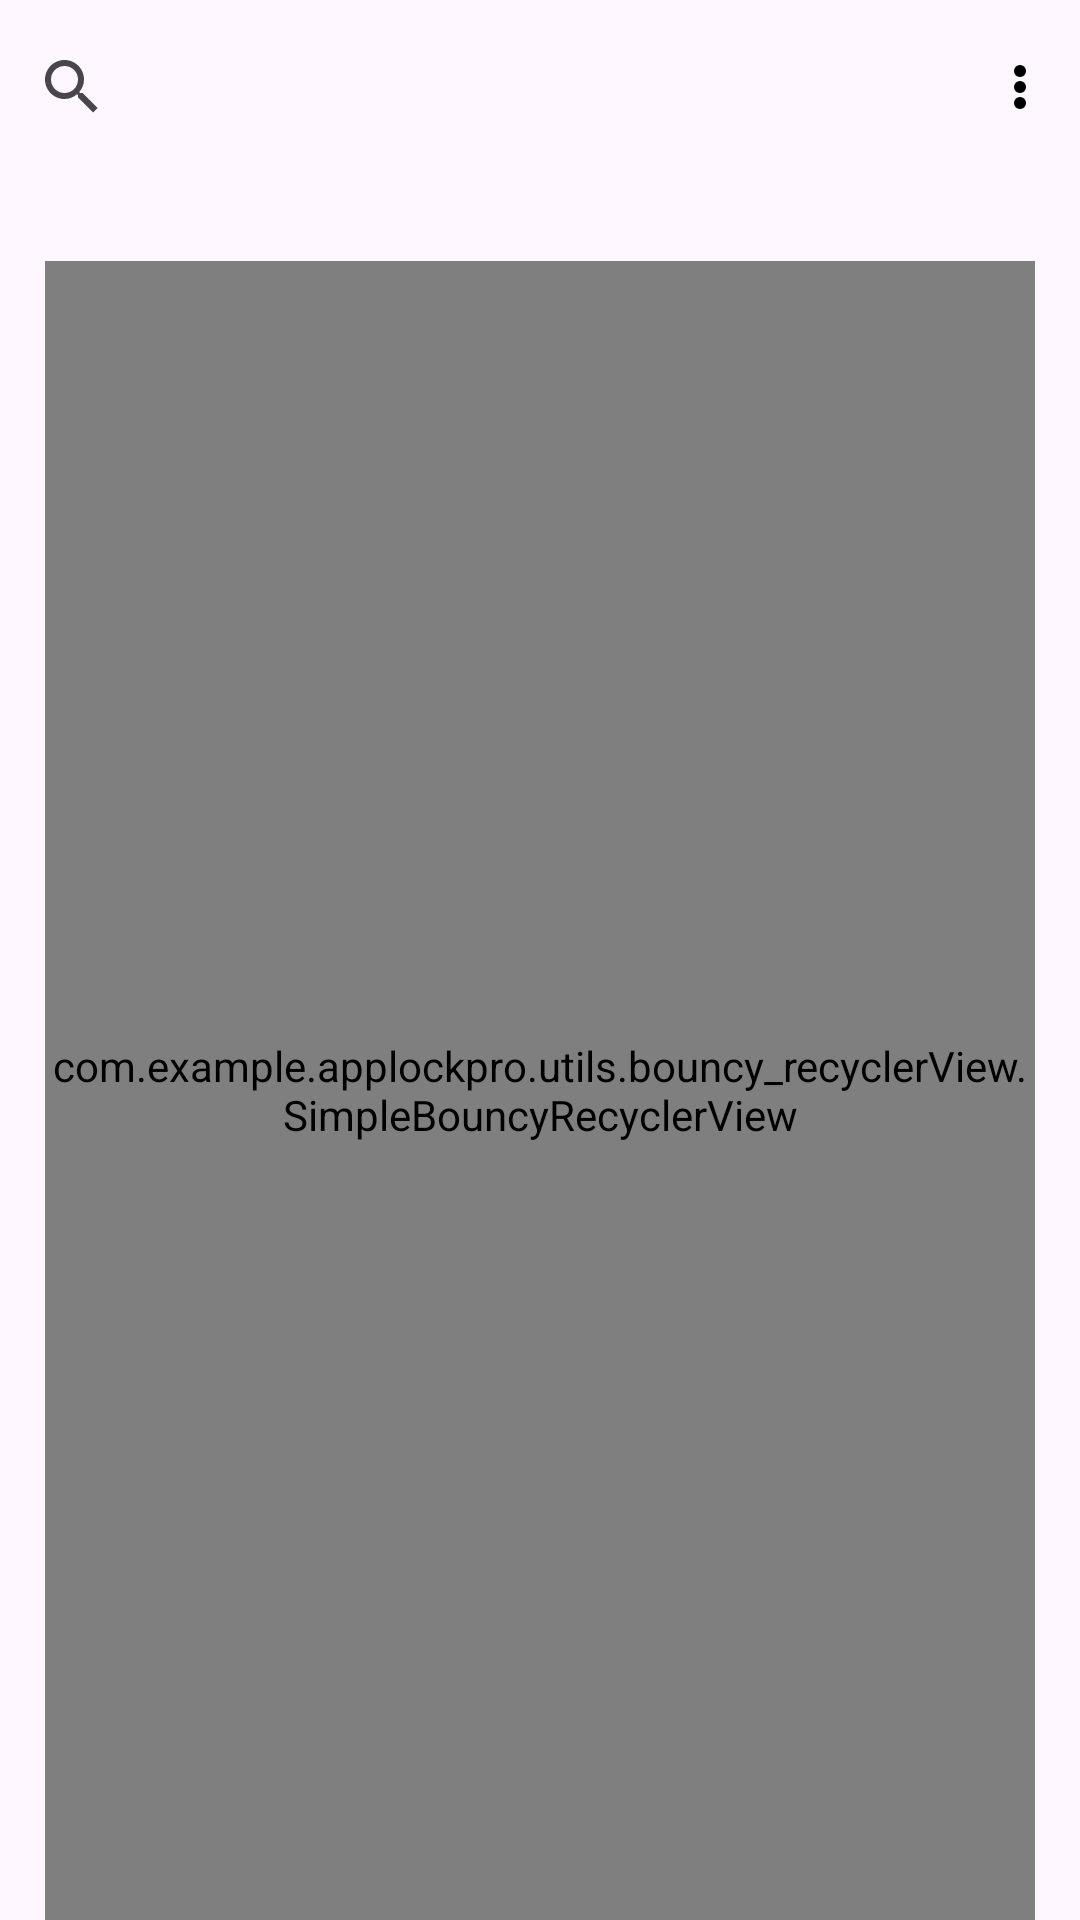

Screen size 1080px×1920px. Icon name, then its box in pixels as (x1, y1, x2, y2):
options: (1014, 65, 1026, 109)
